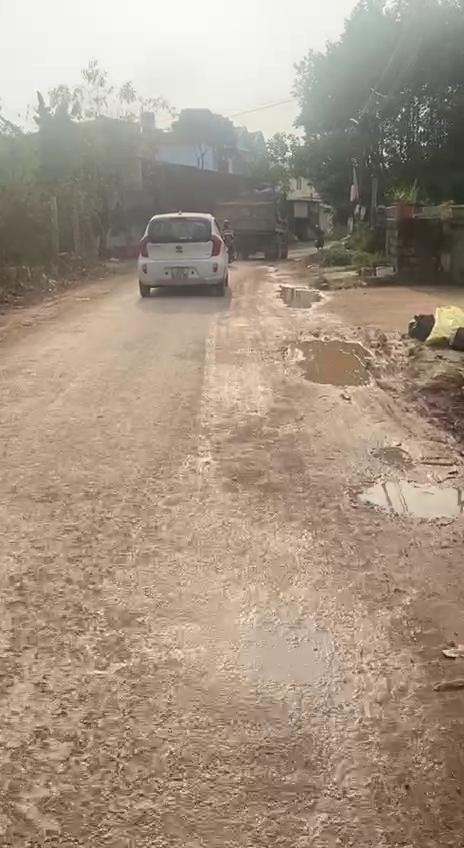pothole: (344, 432, 460, 534), (288, 328, 377, 393), (278, 284, 328, 312)
